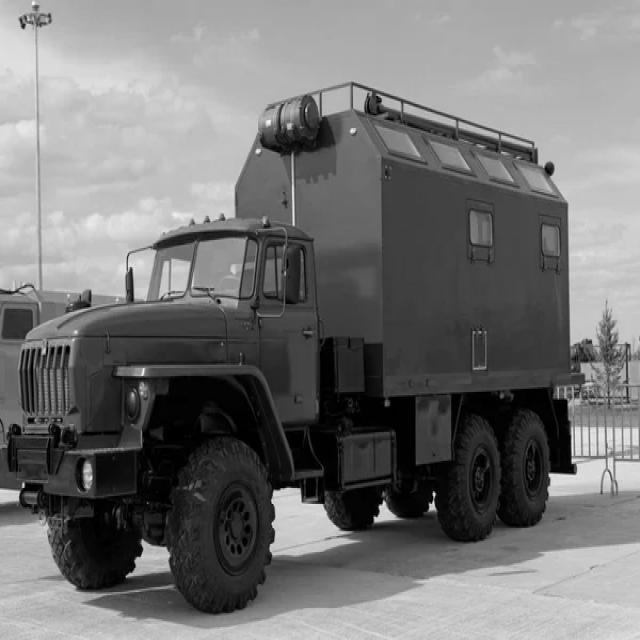Truck: (9, 83, 576, 612)
